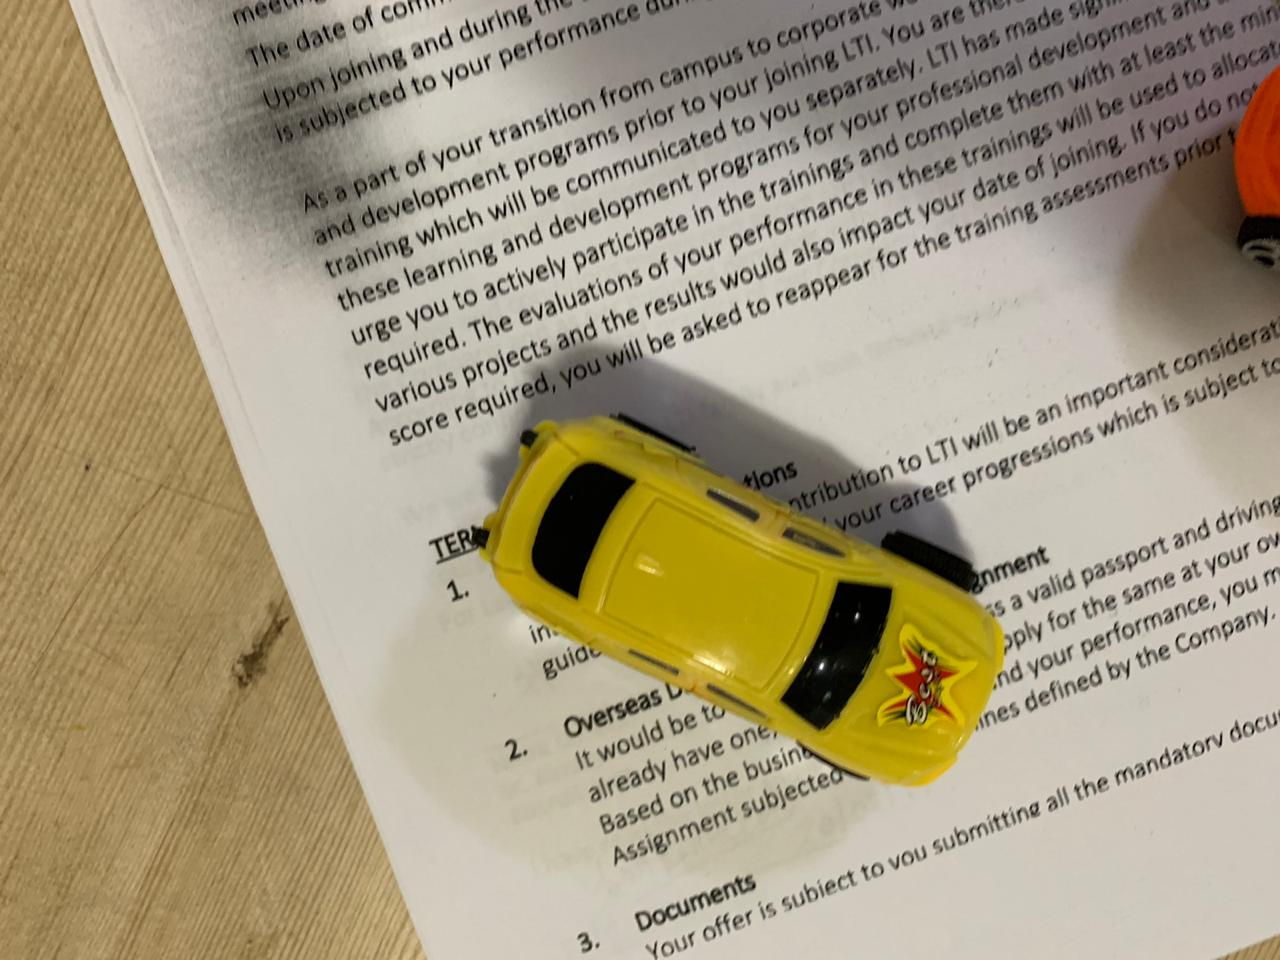car: (478, 364, 1008, 812)
